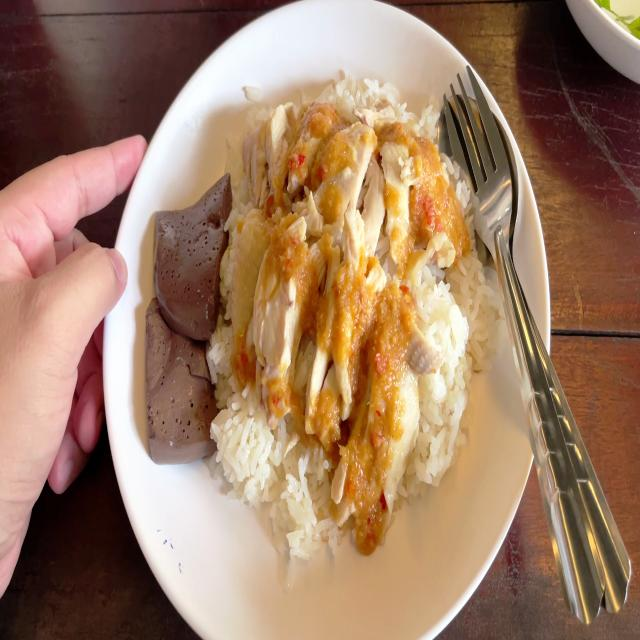boiled_chicken: (248, 108, 436, 420)
boiled_chicken_blood_jelly: (144, 165, 236, 333), (140, 308, 226, 462)
chicken_rice: (136, 74, 496, 576)
